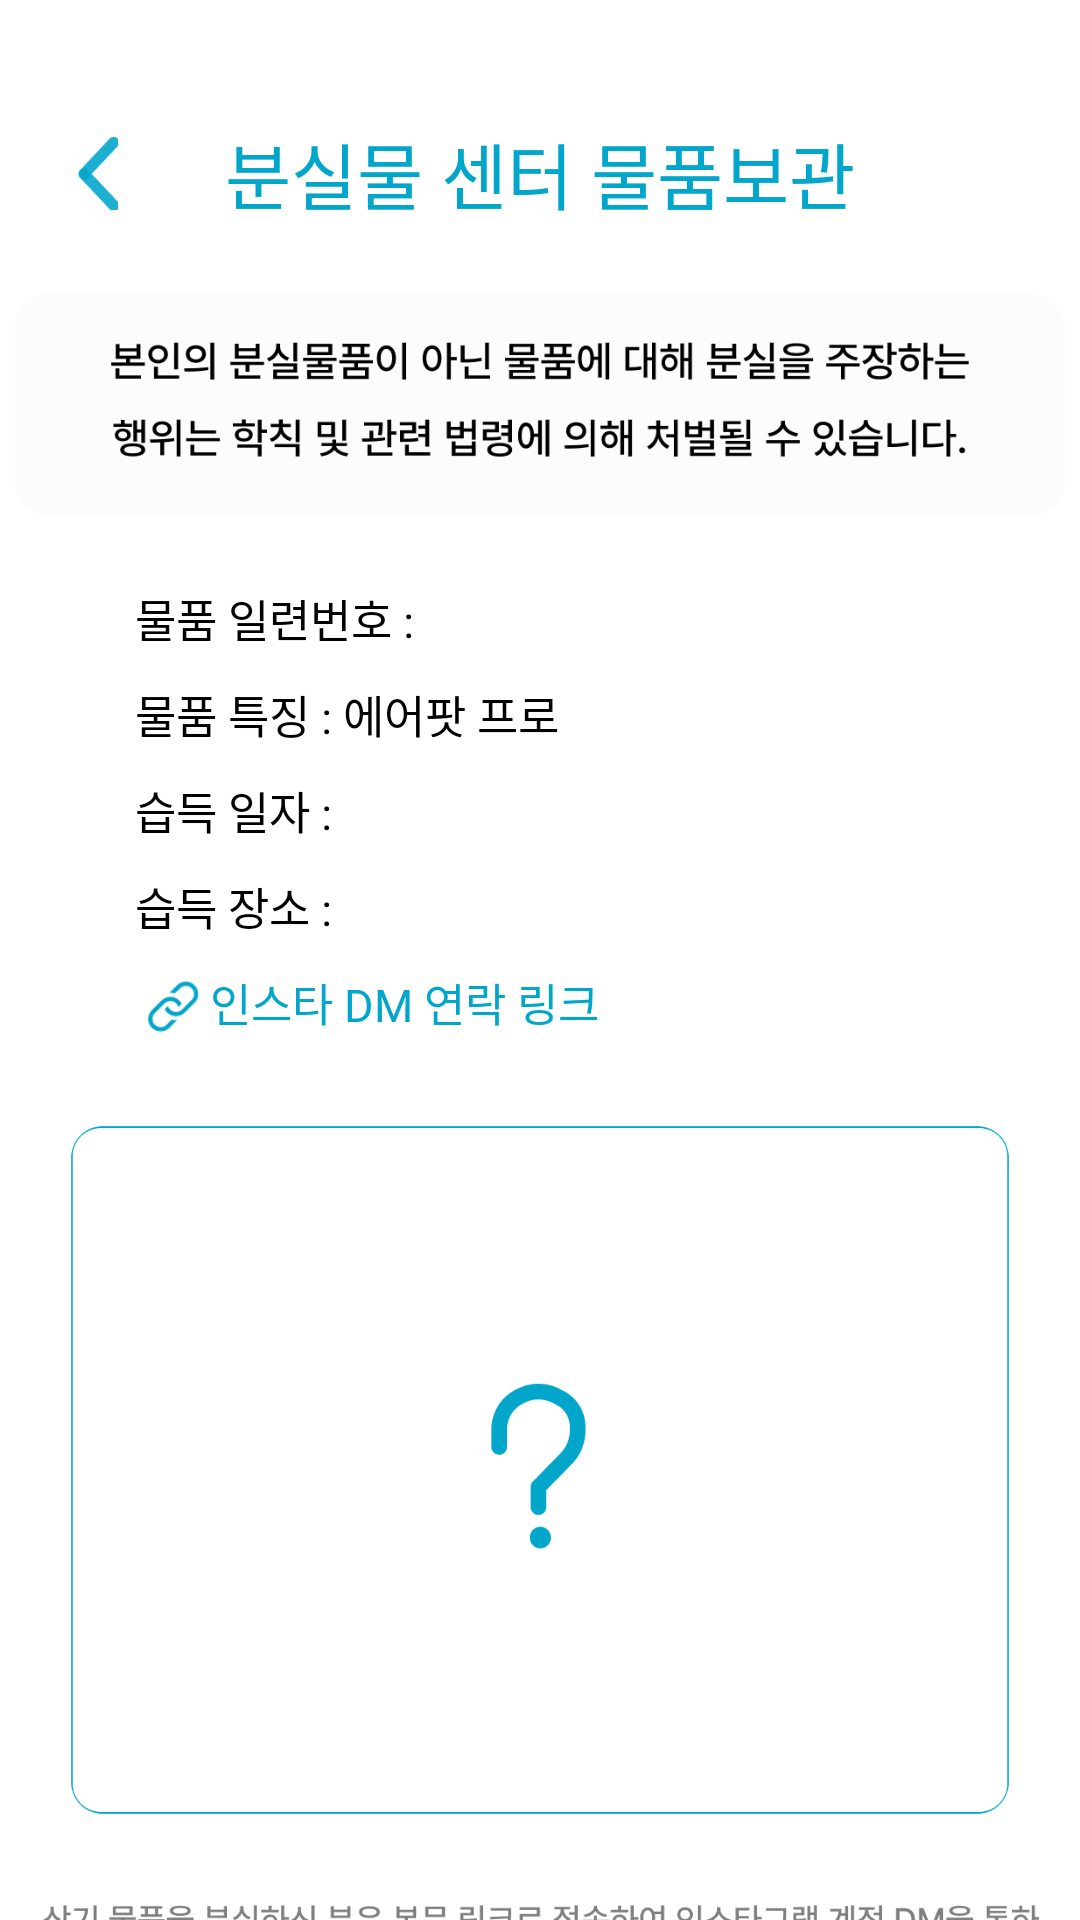

Screen size 1080×1920. Icon name, then its box in pixels as (x1, y1, x2, y2):
back: (78, 136, 118, 210)
link: (148, 981, 199, 1032)
